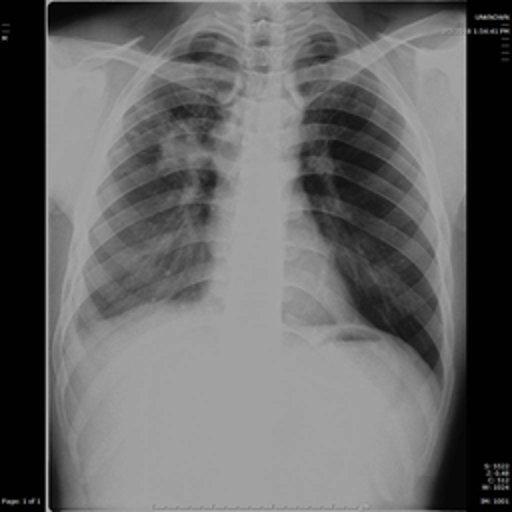TB: (147, 123, 205, 177)
